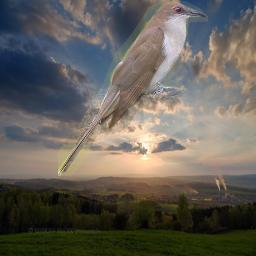Cuckoo: (58, 1, 208, 176)
